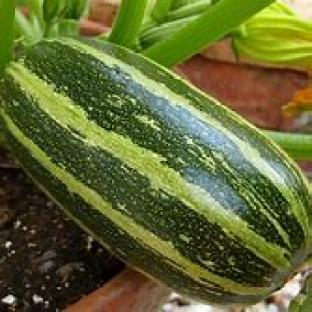Zucchini: (0, 39, 311, 305)
